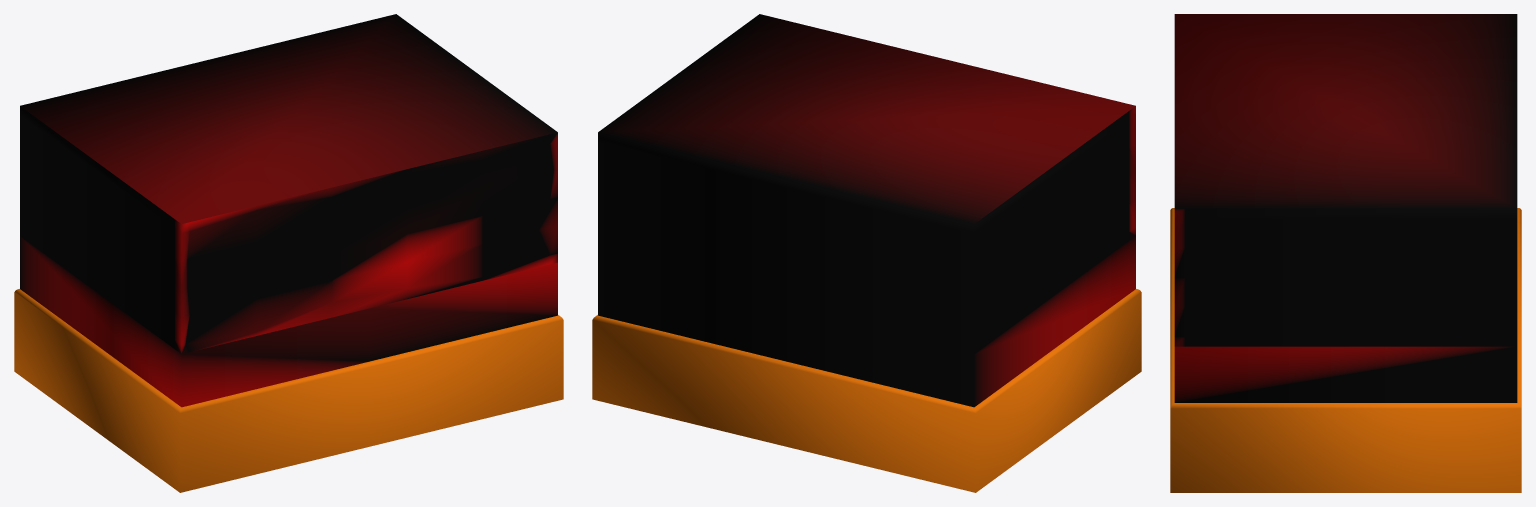
Rendered from House5_collisionSetup.fbx.
3 views of the same model, side by side, from view 1: azimuth 30°, elevation 25°; view 2: azimuth 150°, elevation 25°; view 3: azimuth 270°, elevation 25° (orthographic). The views are drawn at different scales.
Visible parts, largest first — view 1: collisionCube.023, collisionConvex.210; view 2: collisionCube.023, collisionConvex.210; view 3: collisionCube.023, collisionConvex.210.
Part boxes in pixels (x1,y1,x2,y2): collisionCube.023: (20,14,557,407); collisionConvex.210: (14,289,563,492); collisionCube.023: (598,14,1135,407); collisionConvex.210: (592,289,1141,492); collisionCube.023: (1174,14,1517,402); collisionConvex.210: (1170,208,1521,492).
Size of the model in its own units: 1095 by 727 by 820.
